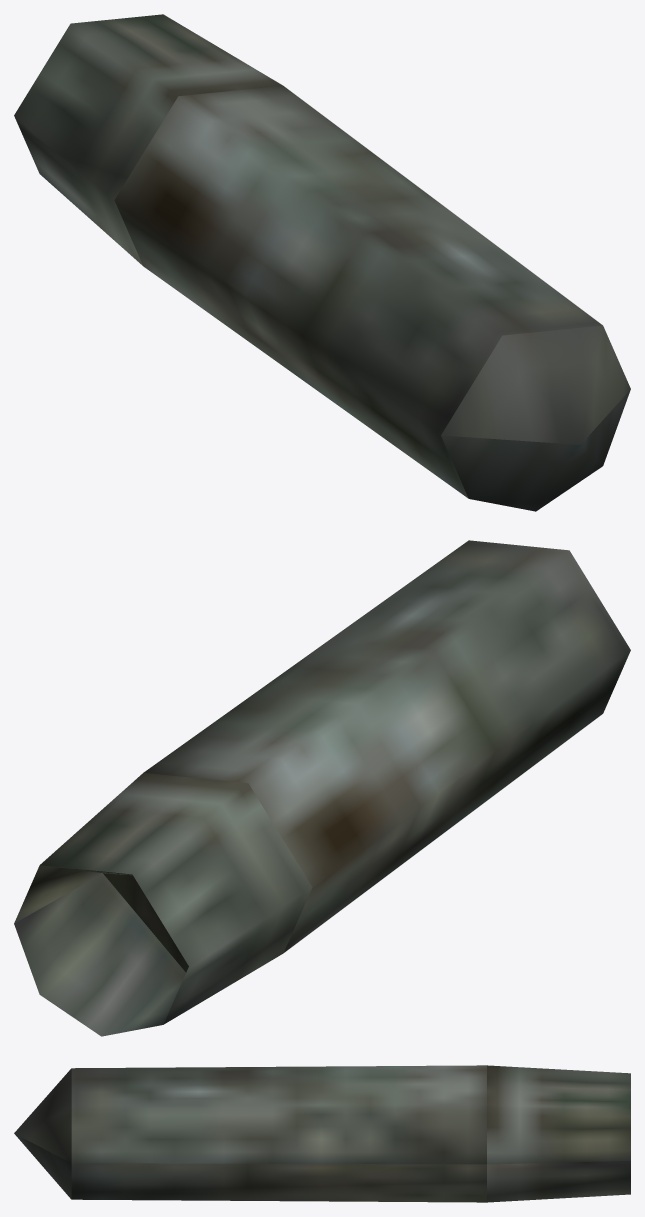
File: xwing_debris_d_l1.fbx
3 renders of one model, top to bottom at view 1: azimuth 30°, elevation 25°; view 2: azimuth 150°, elevation 25°; view 3: azimuth 270°, elevation 25°, orthographic. The views are drawn at different scales.
Parts seen in each view (by area): view 1: mesh_node; view 2: mesh_node; view 3: mesh_node.
Boxes of the visible parts, x1=… form: mesh_node: x1=14, y1=14, x2=630, y2=511; mesh_node: x1=14, y1=540, x2=630, y2=1036; mesh_node: x1=14, y1=1065, x2=630, y2=1202.
Bounding box in the file's own units: 0.7489 × 0.6941 × 3.14.
1 material, 1 textured.
